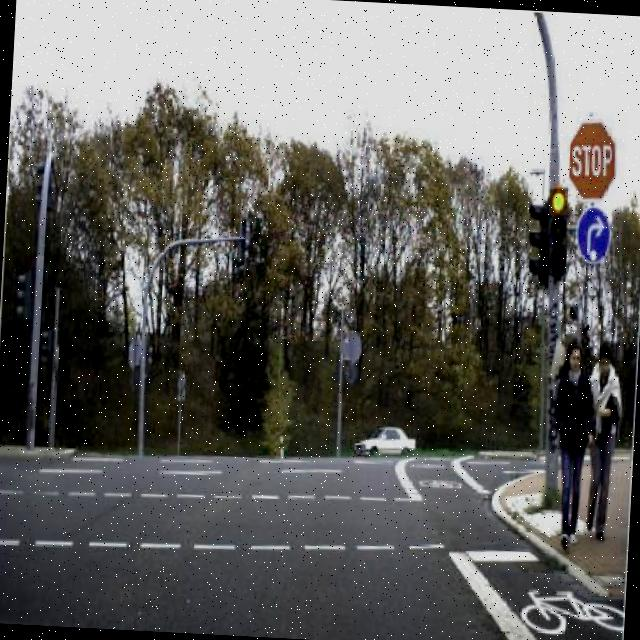Stop: (563, 115, 625, 205)
